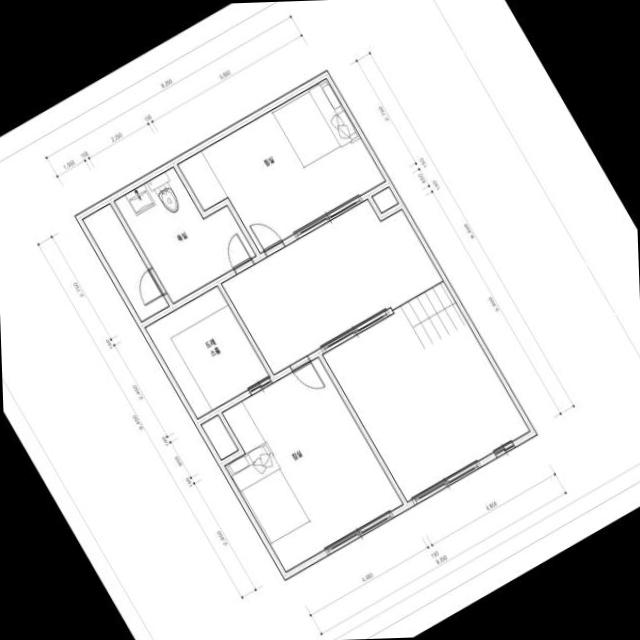background: (0, 0, 640, 640)
space_bedroom: (222, 356, 402, 571), (177, 78, 384, 252)
space_dressroom: (145, 285, 269, 417)
space_other: (322, 280, 529, 500), (221, 198, 442, 373), (82, 203, 168, 320), (200, 414, 237, 459), (372, 186, 397, 212)
space_toilet: (114, 166, 255, 302)
